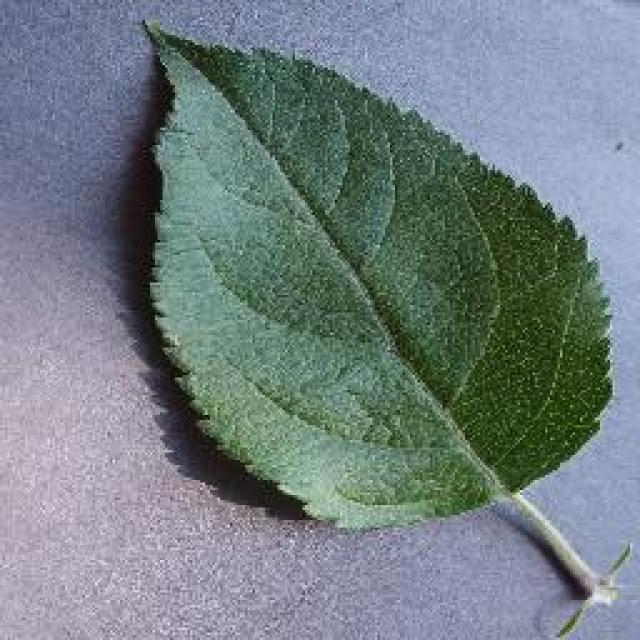apple healthy: (135, 13, 630, 635)
